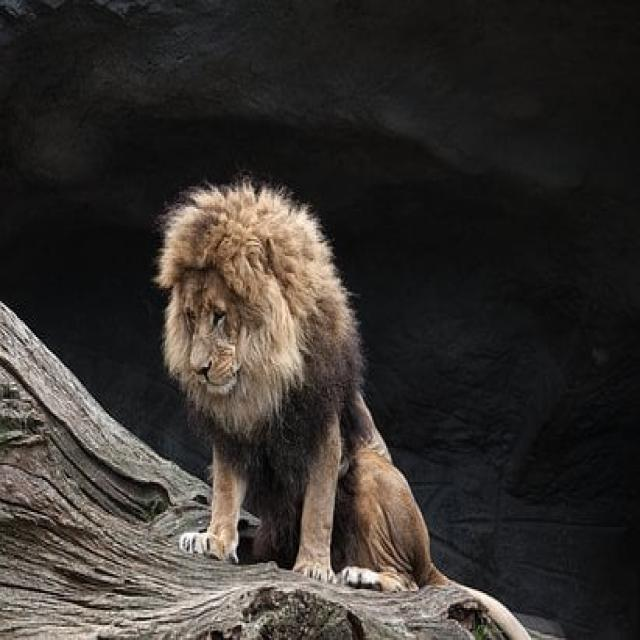Lion: (164, 186, 438, 592)
